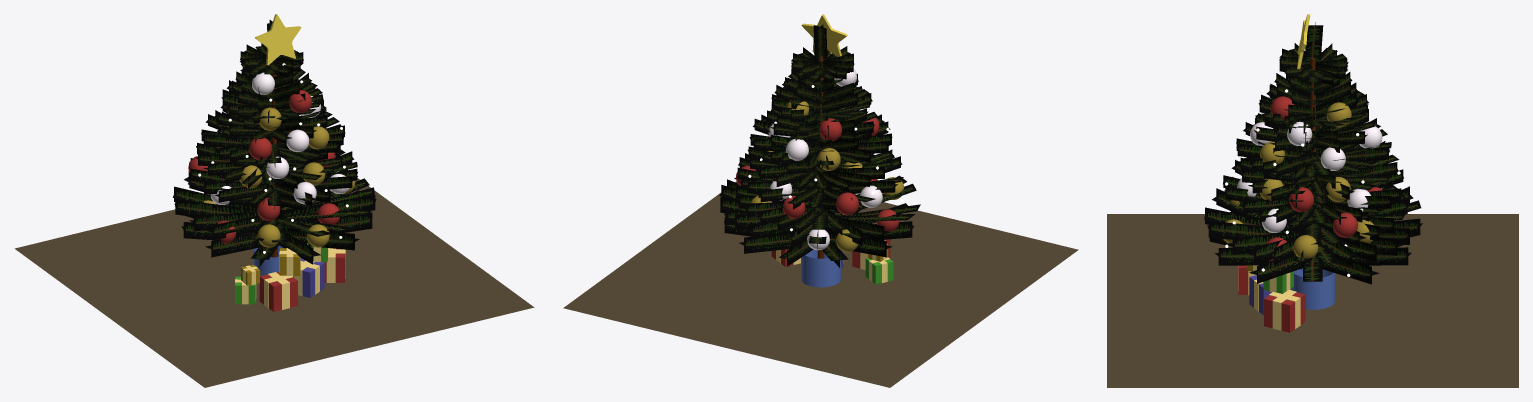
File: tree.gltf
3 views of the same model, side by side, from view 1: azimuth 30°, elevation 25°; view 2: azimuth 150°, elevation 25°; view 3: azimuth 270°, elevation 25° (orthographic). The views are drawn at different scales.
Visible parts, largest first — view 1: Plane.018, Plane.002, Plane.004, Plane, Plane.006, Plane.003, Plane.005, Plane.009, Cube, Plane.008, Circle, Plane.007 (+7 smaller); view 2: Plane.018, Plane.002, Plane, Plane.004, Plane.003, Plane.006, Plane.001, Plane.009, Plane.008, Cylinder.001, Plane.005, Plane.016 (+7 smaller); view 3: Plane.018, Plane.002, Plane.004, Plane, Plane.003, Plane.006, Plane.009, Plane.001, Cube.002, Plane.005, Plane.008, Cylinder.001 (+21 smaller).
Part boxes in pixels (<box>): Plane.018: <box>14,178,534,387</box>; Plane.002: <box>172,171,376,247</box>; Plane.004: <box>190,149,357,209</box>; Plane: <box>181,190,372,266</box>; Plane.006: <box>201,110,345,169</box>; Plane.003: <box>195,130,343,190</box>; Plane.005: <box>216,100,327,144</box>; Plane.009: <box>240,43,303,77</box>; Cube: <box>259,271,297,311</box>; Plane.008: <box>221,79,323,123</box>; Circle: <box>255,14,301,65</box>; Plane.007: <box>235,69,308,101</box>; Plane.018: <box>563,181,1078,387</box>; Plane.002: <box>719,175,920,248</box>; Plane: <box>724,203,913,267</box>; Plane.004: <box>737,149,903,211</box>; Plane.003: <box>747,135,893,193</box>; Plane.006: <box>749,114,892,171</box>; Plane.001: <box>736,185,849,234</box>; Plane.009: <box>791,46,854,83</box>; Plane.008: <box>771,81,872,126</box>; Cylinder.001: <box>801,249,840,287</box>; Plane.005: <box>767,109,877,146</box>; Plane.016: <box>779,77,862,113</box>; Plane.018: <box>1107,214,1518,387</box>; Plane.002: <box>1204,177,1422,269</box>; Plane.004: <box>1223,157,1403,227</box>; Plane: <box>1209,211,1416,284</box>; Plane.003: <box>1238,141,1399,209</box>; Plane.006: <box>1236,118,1391,183</box>; Plane.009: <box>1279,43,1348,85</box>; Plane.001: <box>1304,185,1407,246</box>; Cube.002: <box>1264,290,1305,332</box>; Plane.005: <box>1254,111,1374,156</box>; Plane.008: <box>1258,85,1368,133</box>; Cylinder.001: <box>1291,268,1335,309</box>.
Bounding box in the file's own units: 2.37 × 1.83 × 2.37.
14 materials, 1 textured.
